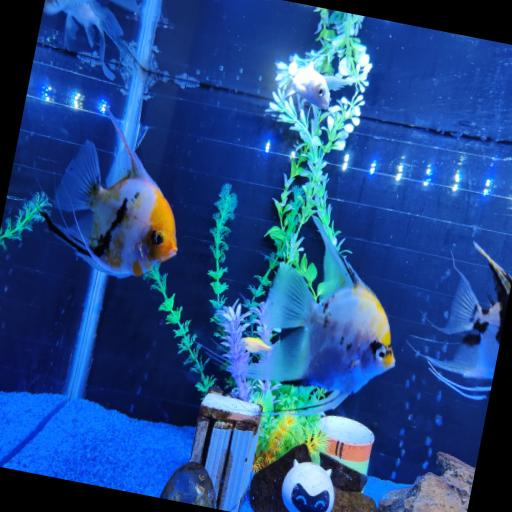Fish: (247, 218, 395, 403), (43, 110, 177, 278), (415, 243, 511, 399), (43, 0, 122, 79), (286, 62, 346, 109), (242, 337, 272, 353)
